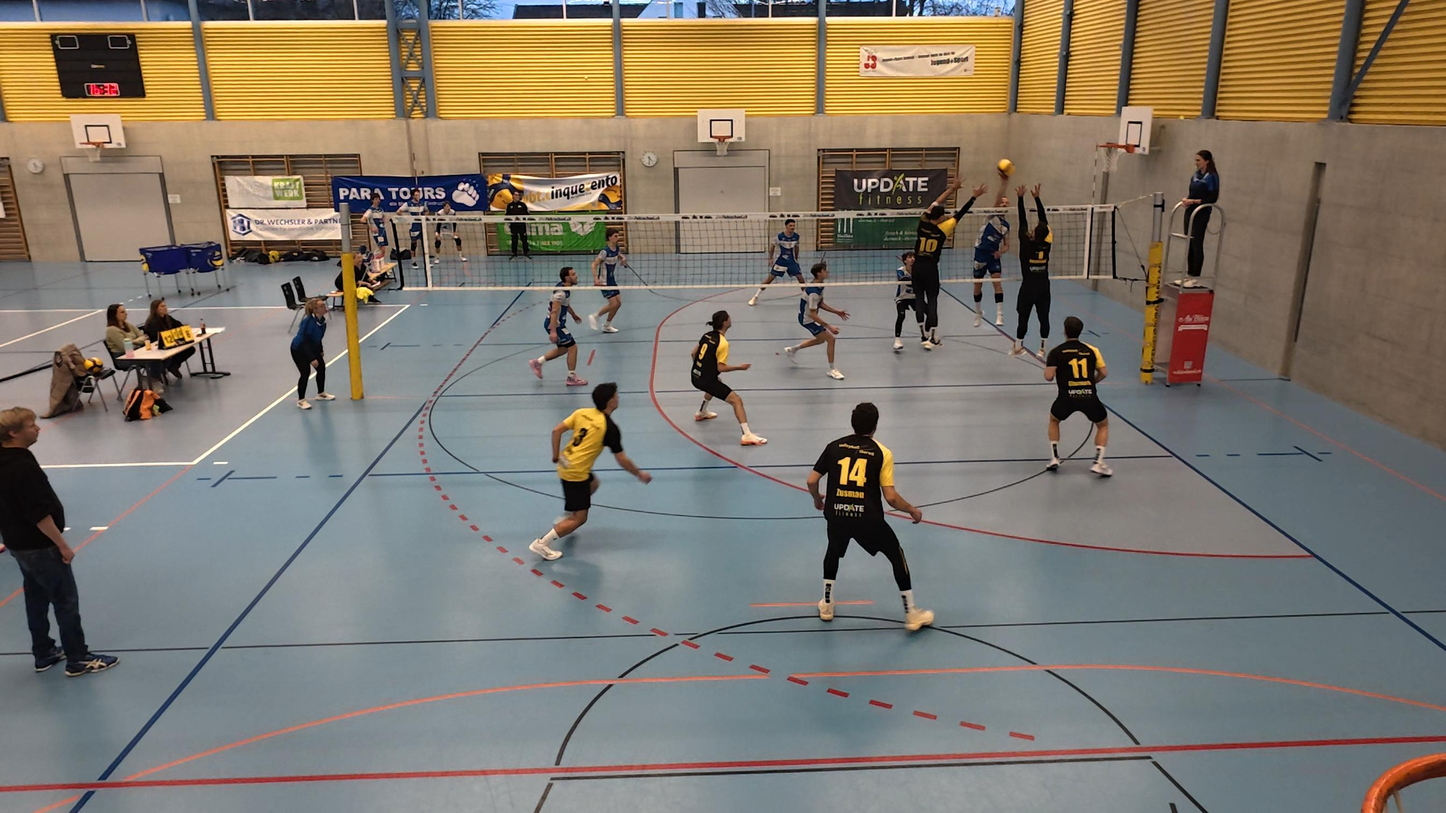Attack: (965, 182, 1012, 320)
Block: (898, 175, 975, 354), (1008, 181, 1060, 359)
Player: (809, 402, 934, 631), (528, 380, 654, 559), (1034, 317, 1112, 477), (692, 308, 764, 445), (782, 262, 848, 379), (530, 267, 586, 386), (750, 220, 807, 307), (891, 250, 926, 353), (594, 232, 626, 338)
ball: (996, 158, 1015, 174)
